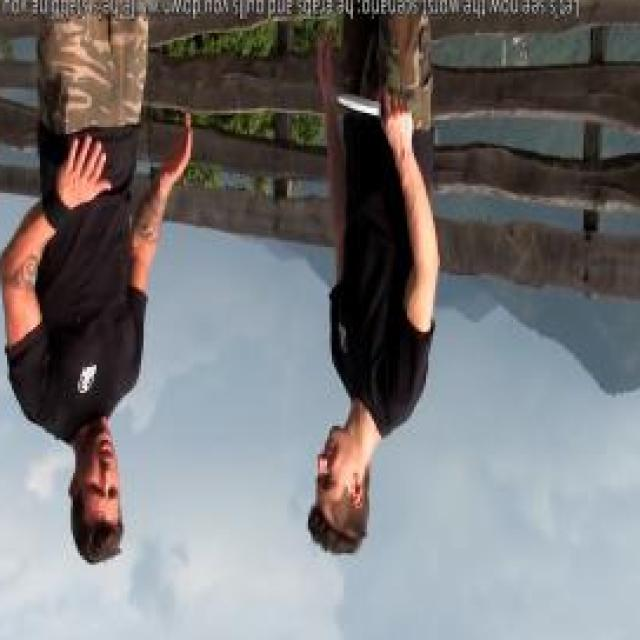knife: (333, 85, 419, 139)
